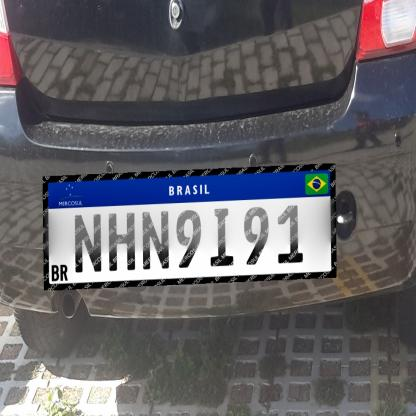PlacaM: (42, 163, 336, 290)
